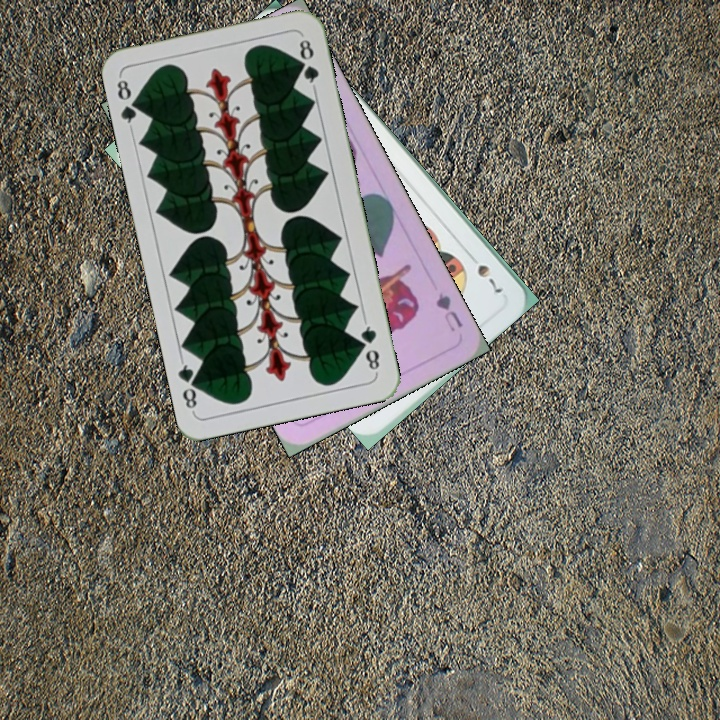G8: (112, 73, 144, 132), (356, 317, 382, 376)
GU: (431, 288, 466, 335)
S7: (463, 249, 505, 296)
